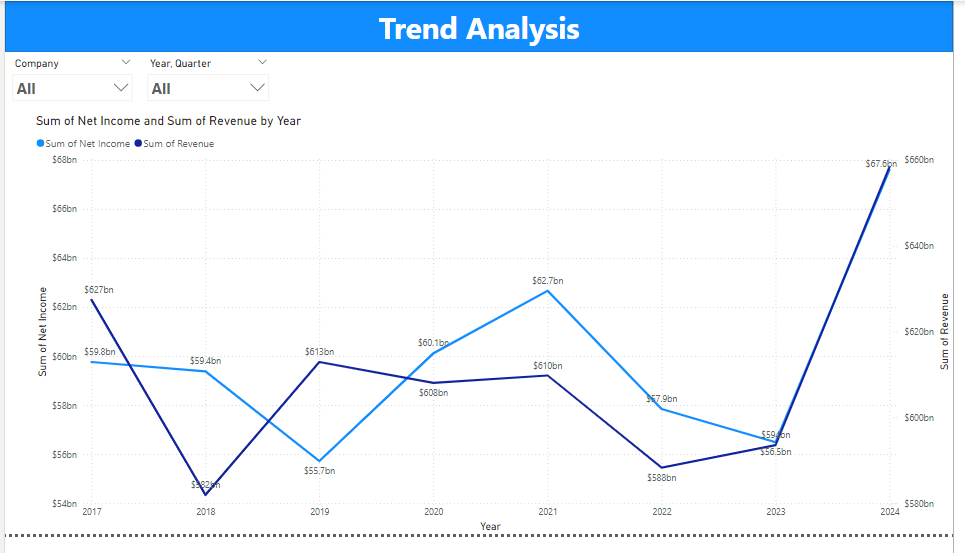

Layout of this report page (visuals, bound fields, positions):
{"tool":"powerbi","page":{"name":"Page 3","canvas":[1280,720],"ordinal":2},"visuals":[{"type":"shape","box":[0,0,1280,68.9],"z":0},{"type":"lineChart","fields":{"Category":["Top_12_German_Companies NEW.Period.Variation.Date Hierarchy.Year"],"Y":["Sum(Top_12_German_Companies NEW.Net Income)"],"Y2":["Sum(Top_12_German_Companies NEW.Revenue)"]},"box":[36.5,151.9,1243.5,569.1],"z":1000},{"type":"slicer","fields":{"Values":["Top_12_German_Companies NEW.Company"]},"box":[0,70.9,182.3,77],"z":2000},{"type":"slicer","fields":{"Values":["Top_12_German_Companies NEW.Period.Variation.Date Hierarchy.Year","Top_12_German_Companies NEW.Period.Variation.Date Hierarchy.Quarter"]},"box":[182.3,70.9,184.3,77],"z":3000}]}

Visuals, with their boxes in screenshot pixels (x1, y1, x2, y2), scaled from the page's 1280x720 canvas onto the 965x553 screenshot:
shape: l=0, t=0, r=964, b=53
lineChart - Top_12_German_Companies NEW.Period.Variation.Date Hierarchy.Year x Sum(Top_12_German_Companies NEW.Net Income): l=28, t=117, r=964, b=552
slicer - Top_12_German_Companies NEW.Company: l=0, t=54, r=137, b=114
slicer - Top_12_German_Companies NEW.Period.Variation.Date Hierarchy.Year x Top_12_German_Companies NEW.Period.Variation.Date Hierarchy.Quarter: l=137, t=54, r=276, b=114
